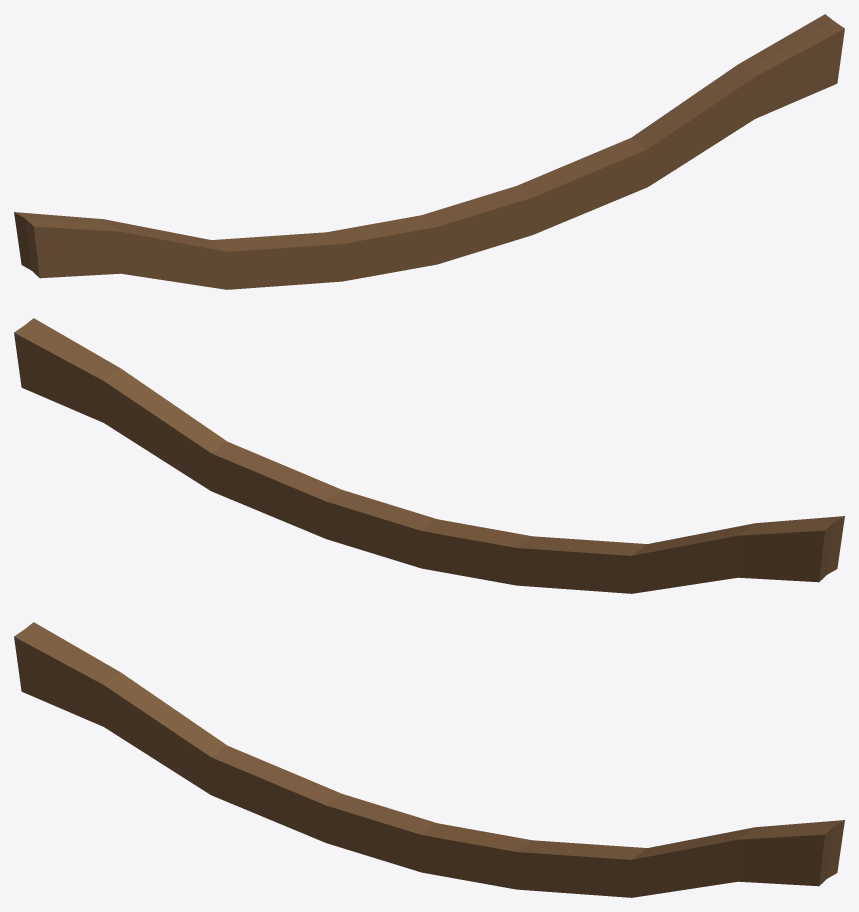
The model's file is Beam.fbx.
3 renders of one model, top to bottom at view 1: azimuth 30°, elevation 25°; view 2: azimuth 150°, elevation 25°; view 3: azimuth 330°, elevation 25°, orthographic.
Parts seen in each view (by area): view 1: Beam; view 2: Beam; view 3: Beam.
Boxes of the visible parts, x1=… form: Beam: x1=14, y1=14, x2=844, y2=289; Beam: x1=14, y1=318, x2=844, y2=593; Beam: x1=14, y1=622, x2=844, y2=897.
Size of the model in its own units: 482 by 78.86 by 20.39.
